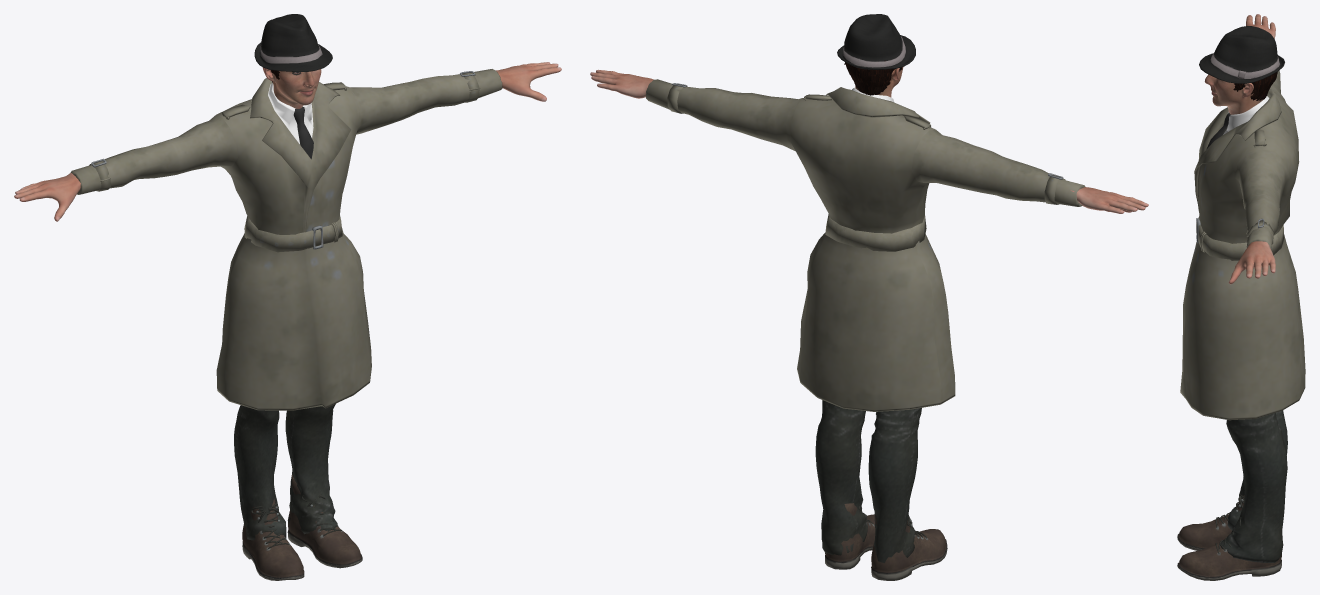
Rendered from player.obj.
3 renders of one model, left to right at view 1: azimuth 30°, elevation 25°; view 2: azimuth 150°, elevation 25°; view 3: azimuth 270°, elevation 25°, orthographic. The views are drawn at different scales.
Visible parts, largest first — view 1: Tops, Bottoms, Shoes, Body, Hats; view 2: Tops, Bottoms, Shoes, Hats, Body, Hair; view 3: Tops, Bottoms, Shoes, Hats, Body, Hair.
Boxes of the visible parts, x1,y1,x2,y2 form: Tops: (70, 69, 502, 410); Bottoms: (234, 404, 337, 540); Shoes: (242, 474, 362, 580); Body: (14, 62, 561, 221); Hats: (254, 14, 332, 72); Tops: (646, 79, 1085, 411); Bottoms: (815, 400, 921, 562); Shoes: (825, 503, 947, 580); Hats: (837, 14, 915, 69); Body: (590, 67, 1148, 213); Hair: (844, 60, 902, 95); Tops: (1180, 70, 1305, 420); Bottoms: (1220, 410, 1287, 562); Shoes: (1177, 493, 1281, 580); Hats: (1199, 26, 1284, 83); Body: (1204, 14, 1275, 284); Hair: (1233, 72, 1277, 100).
Bounding box in the file's own units: 194 × 182 × 40.03.
Materials: 1 (1 with a texture image).
